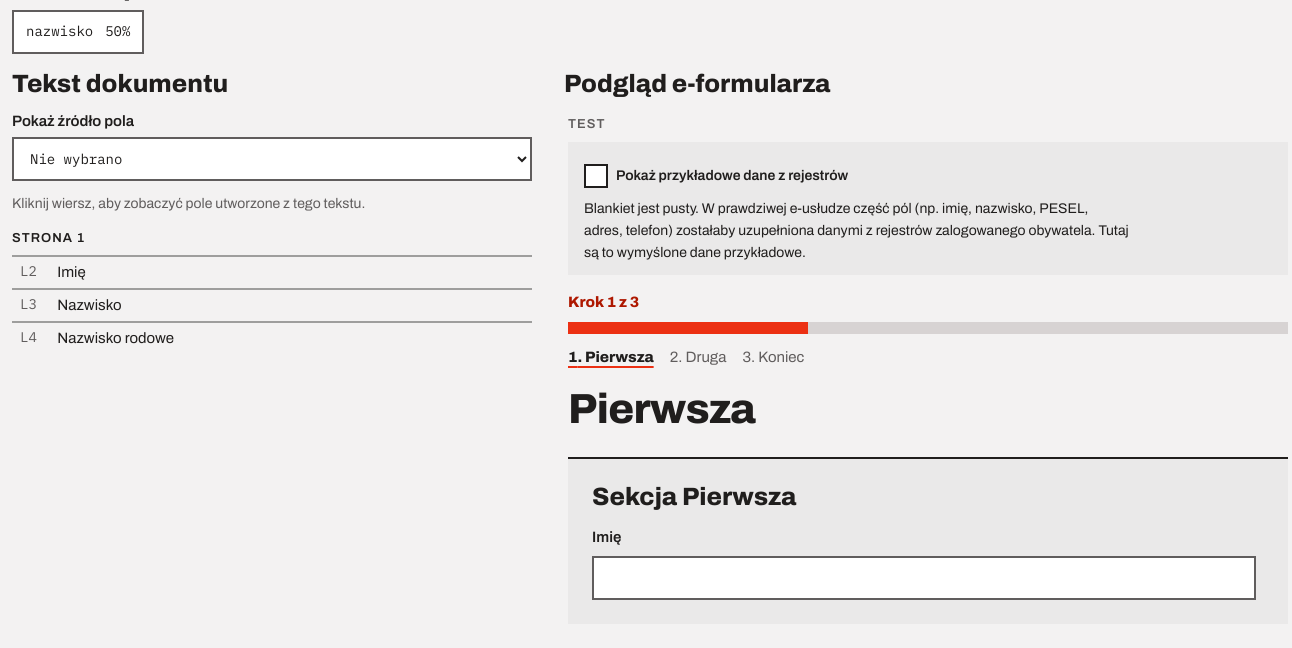
it: CompareView › selects the field when its document line is clicked
The width and height of the screenshot is (1292, 648).
Click the button "L2 Imię" at (28,271), box [12,256,532,288]
(page scrolled)
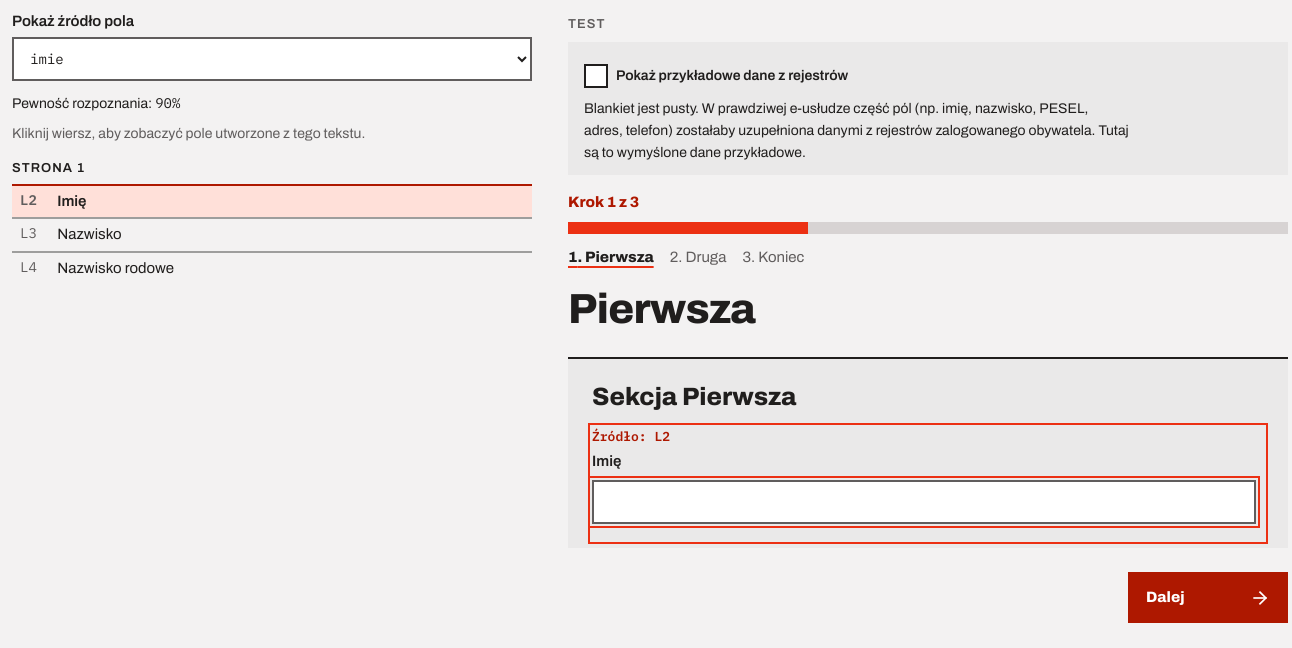
Check: the text "Źródło: L2" is shown, box [592,428,670,445]
Check: the dropdown labelled "Pokaż źródło pola" shows "imie", box [12,37,532,81]
